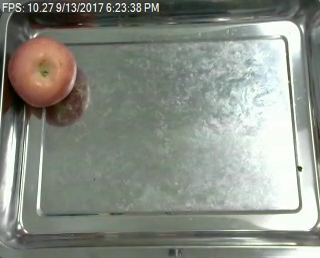Apple: (4, 35, 76, 107)
